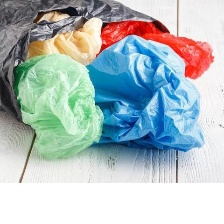plastic_bag: (0, 0, 171, 129), (81, 33, 208, 154), (12, 51, 106, 163), (95, 16, 216, 81), (18, 13, 104, 69)
